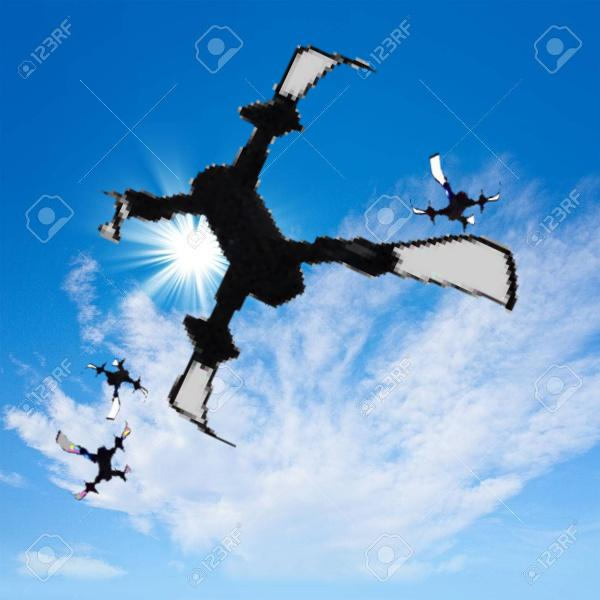drone: (84, 32, 532, 480), (47, 404, 144, 501), (409, 143, 506, 240), (76, 352, 150, 426)
